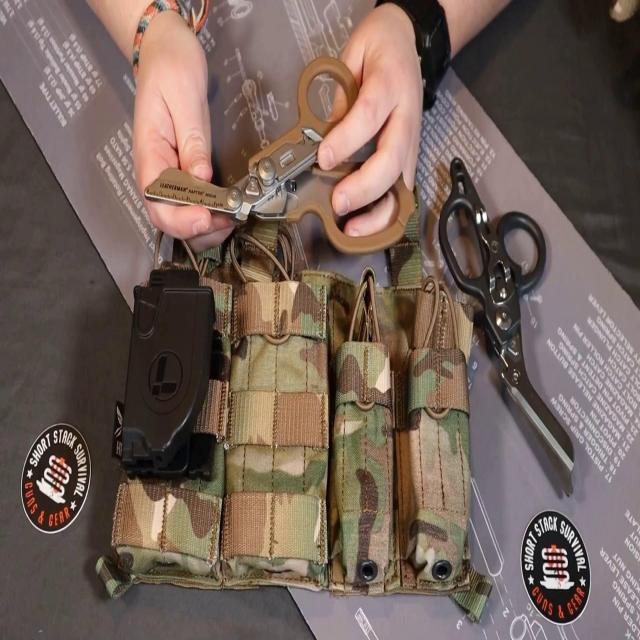scissor: (144, 54, 417, 257), (438, 156, 575, 473)
